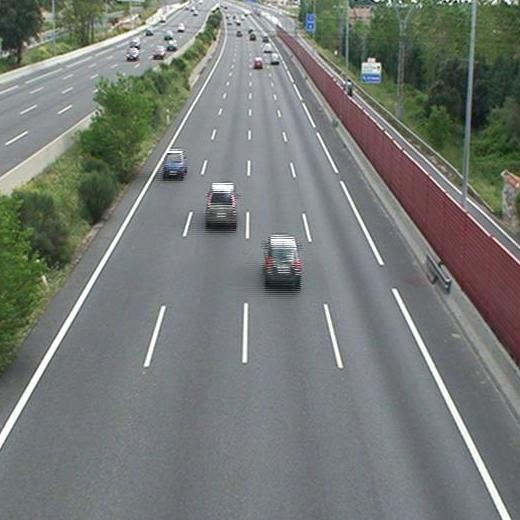car: (266, 236, 300, 282), (208, 185, 235, 223), (164, 150, 185, 175), (253, 58, 263, 69), (269, 53, 279, 63)
